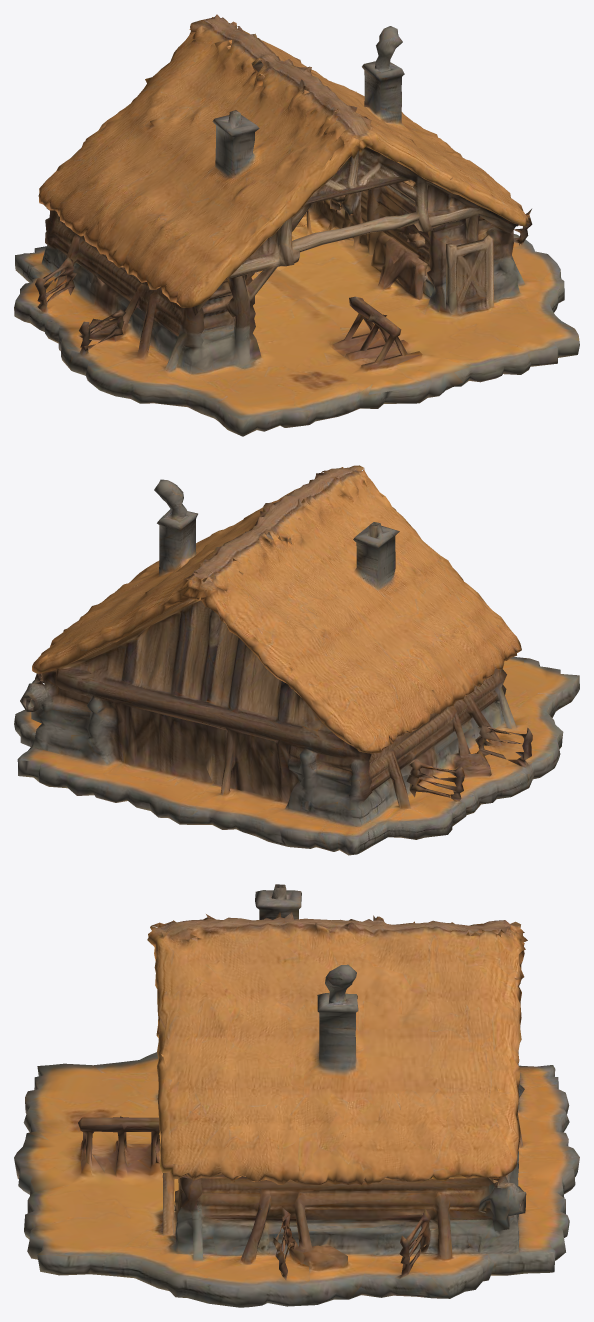
File: siege-workshop.glb
3 views of the same model, one above another, from view 1: azimuth 30°, elevation 25°; view 2: azimuth 150°, elevation 25°; view 3: azimuth 270°, elevation 25° (orthographic). The views are drawn at different scales.
Bounding box in the file's own units: 1.91 × 0.9771 × 1.77.
1 material, 1 textured.
